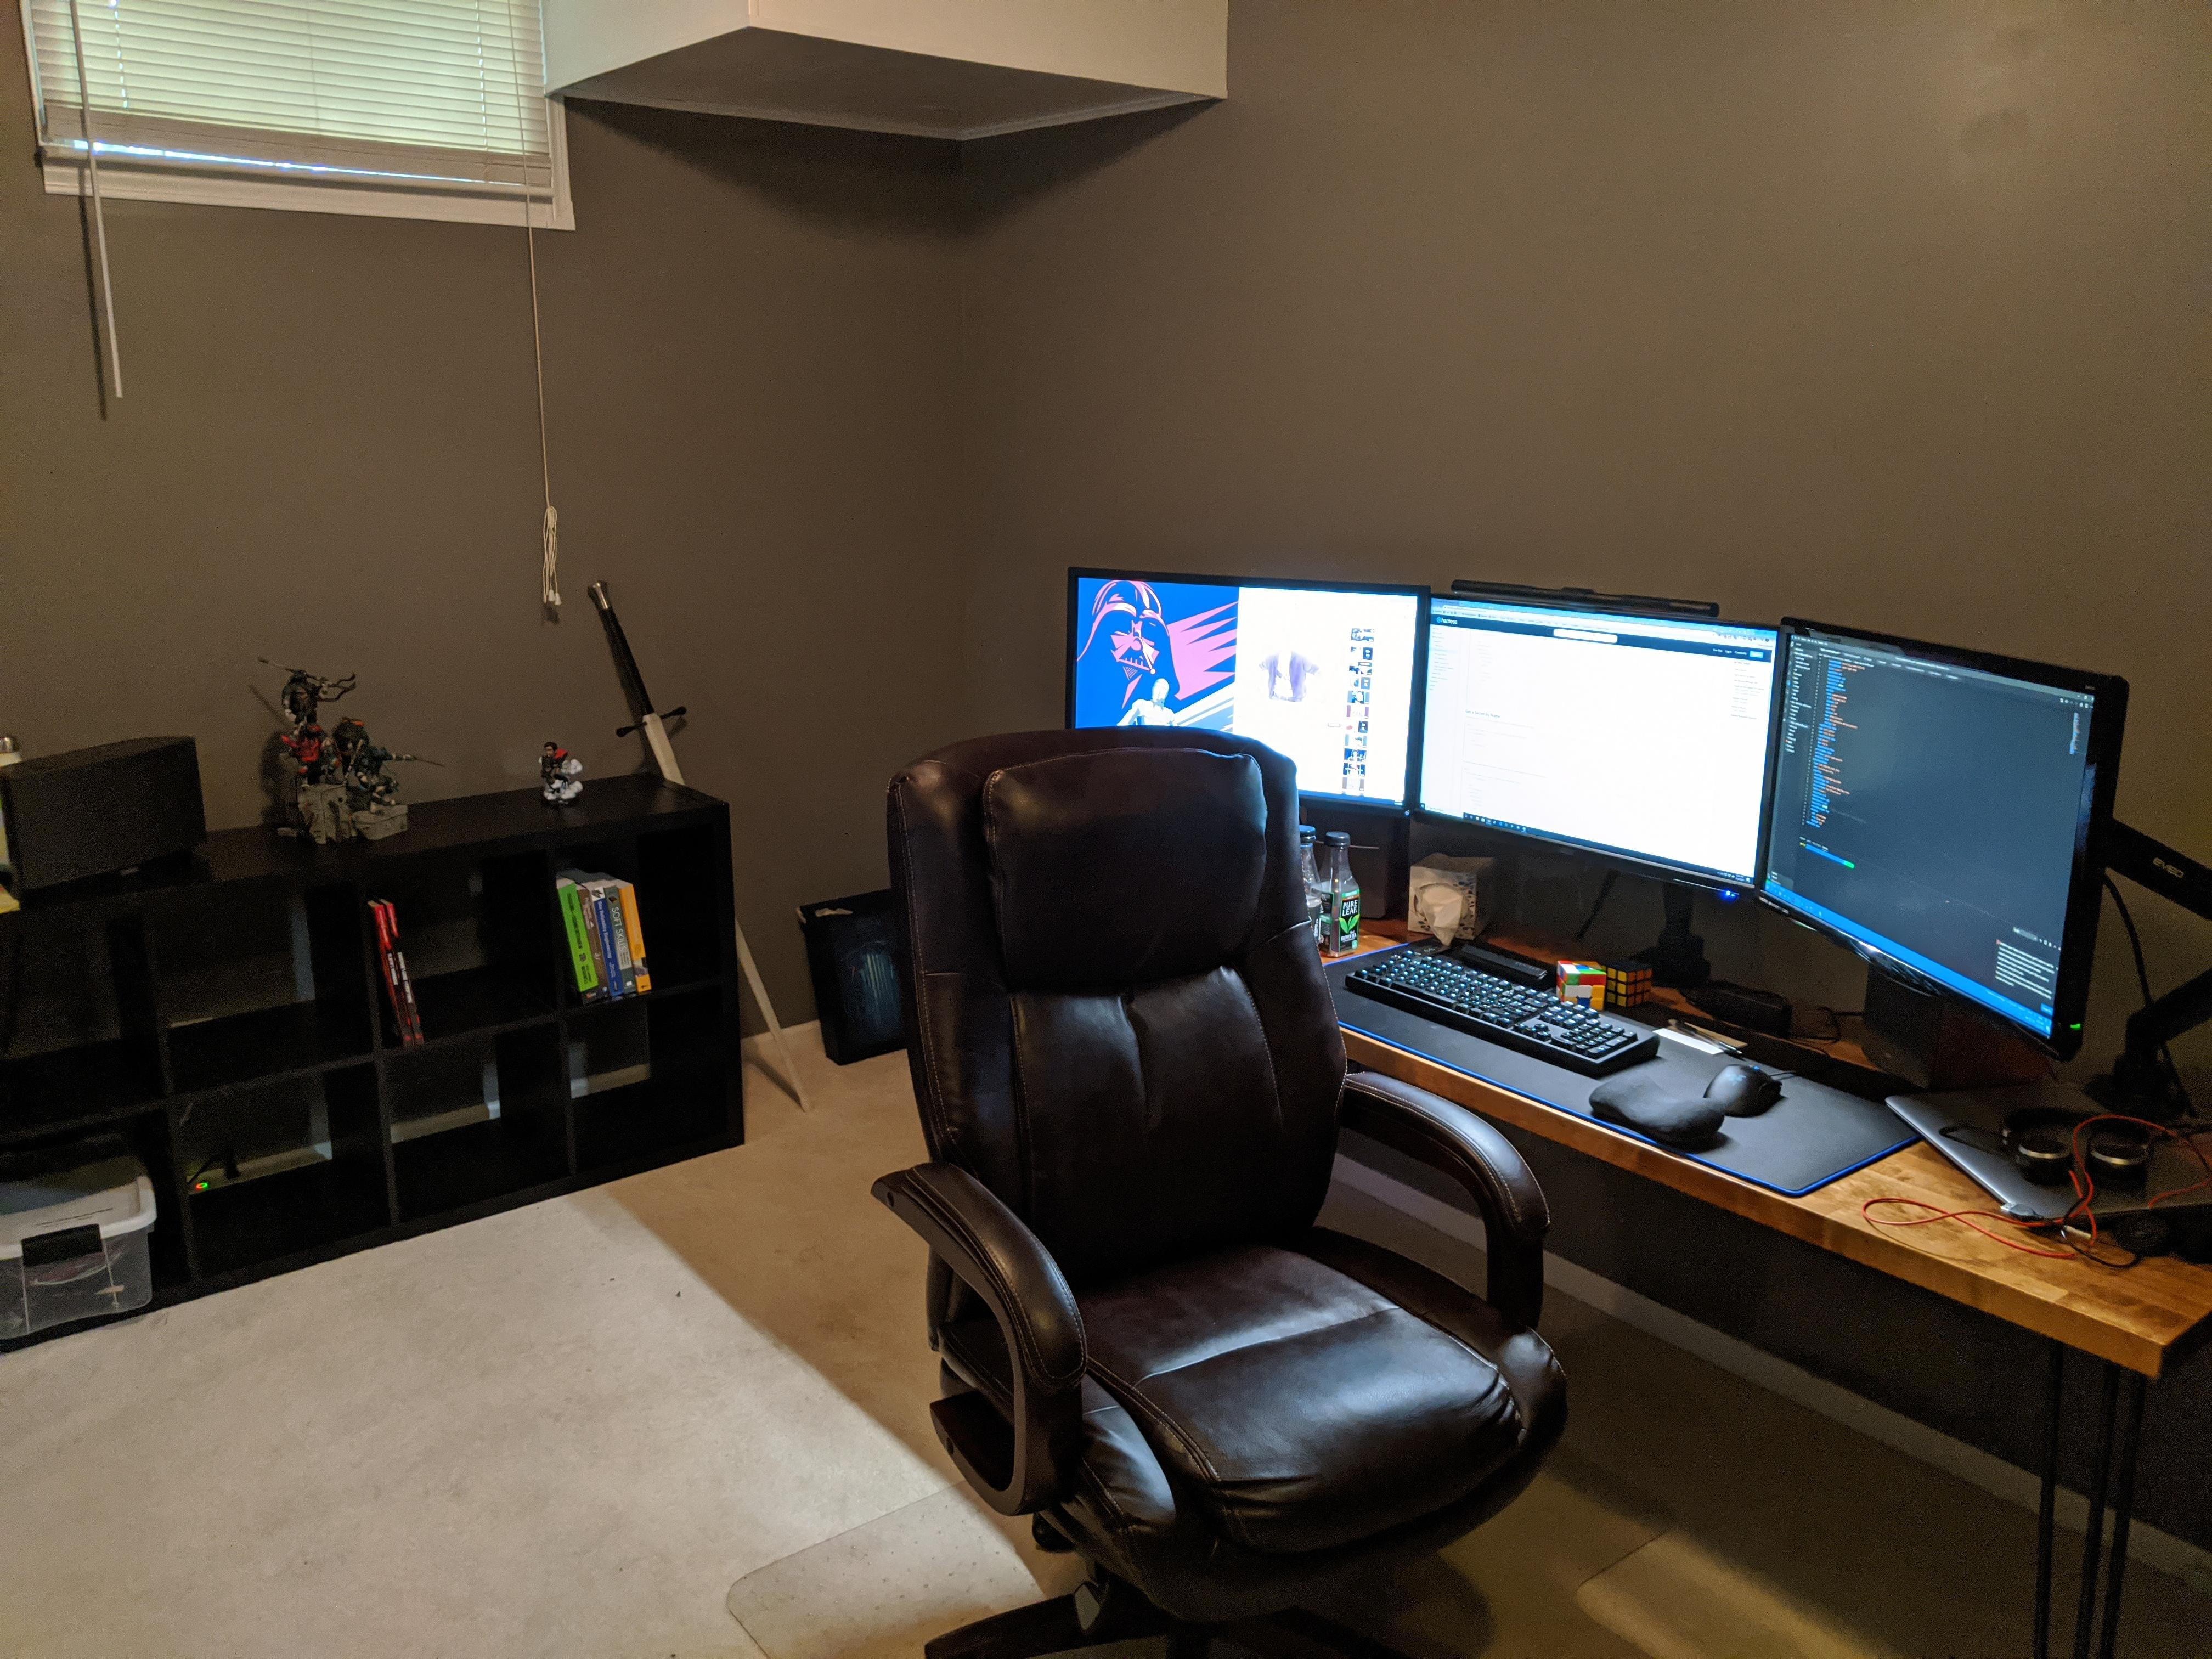Book: (559, 852, 655, 1000), (364, 894, 435, 1053)
Chair (Generic): (866, 723, 1564, 1642)
Decoration (Generic): (585, 584, 822, 1148)
Decoration (Miniature): (237, 652, 444, 857), (533, 737, 594, 810)
Decoration (Rubric's Cube): (1562, 950, 1653, 1011)
Desk (Generic): (1303, 878, 2212, 1659)
External Speakers (Generic): (1867, 972, 1944, 1089)
External Webcam: (1454, 573, 1724, 622)
Headphones: (2005, 1112, 2151, 1204)
Keyboard (Generic): (1343, 957, 1663, 1082)
Laptop (Windows): (1885, 1080, 2200, 1213)
Monitor (Landscape): (1764, 627, 2137, 1047), (1420, 591, 1775, 908), (1066, 573, 1432, 816)
Mouse (Gaming): (1705, 1053, 1792, 1129)
Mousepad (Gaming): (1317, 920, 1958, 1202)
Storage Drawer: (3, 1187, 152, 1335)
Trash Can: (794, 887, 923, 1091)
Water Bottle: (1299, 828, 1371, 953)
